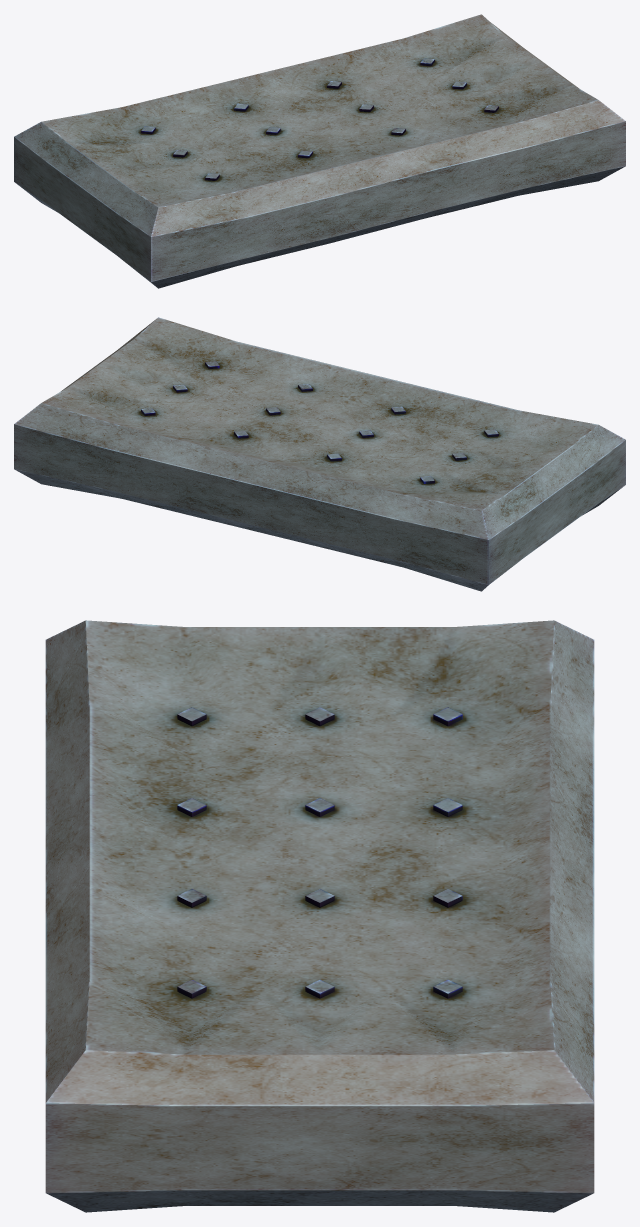
Rendered from Matress.fbx.
3 renders of one model, top to bottom at view 1: azimuth 30°, elevation 25°; view 2: azimuth 150°, elevation 25°; view 3: azimuth 270°, elevation 25°, orthographic. The views are drawn at different scales.
Visible parts, largest first — view 1: Matress; view 2: Matress; view 3: Matress.
Part boxes in pixels (x1,y1,x2,y2): Matress: [14, 14, 625, 288]; Matress: [14, 317, 625, 591]; Matress: [45, 620, 594, 1212].
Size of the model in its own units: 2 by 0.3268 by 1.
